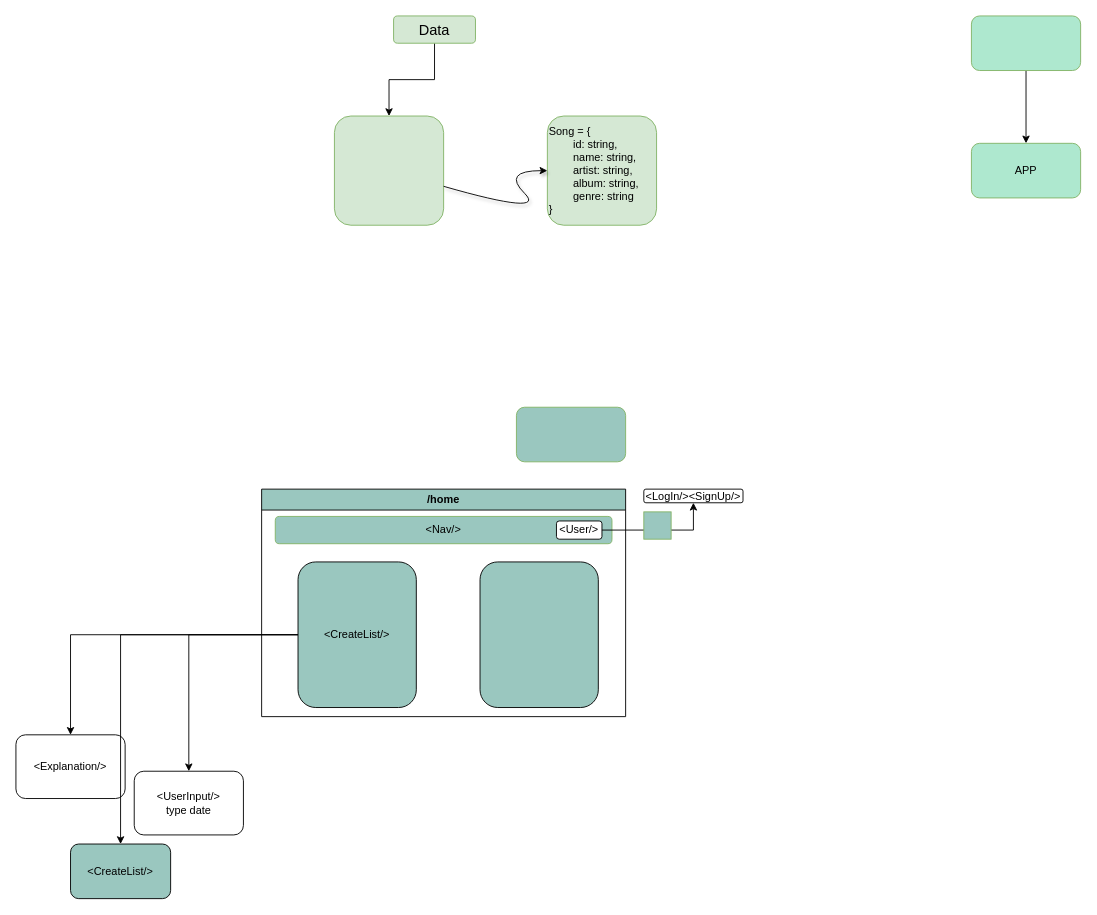
Some shapes in this 1097 by 915 pixel diagram are drawn without their labels. The shapes that lost their labels are listed below. From the top down, each one's centre as x and y in pixels, then its label:
At [1026,43]: "COMPONENTS".
At [389,170]: "User = { id: string, name: string, birthday: date, songs: [song] }".
At [571,434]: "LAYOUTS".
At [657,525]: "or".
At [538,634]: "<Animation/>".
